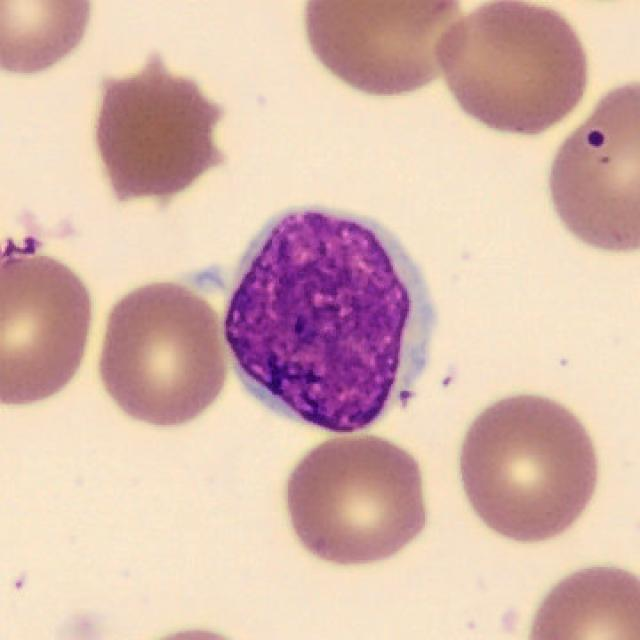Linfocito: (224, 208, 436, 436)
